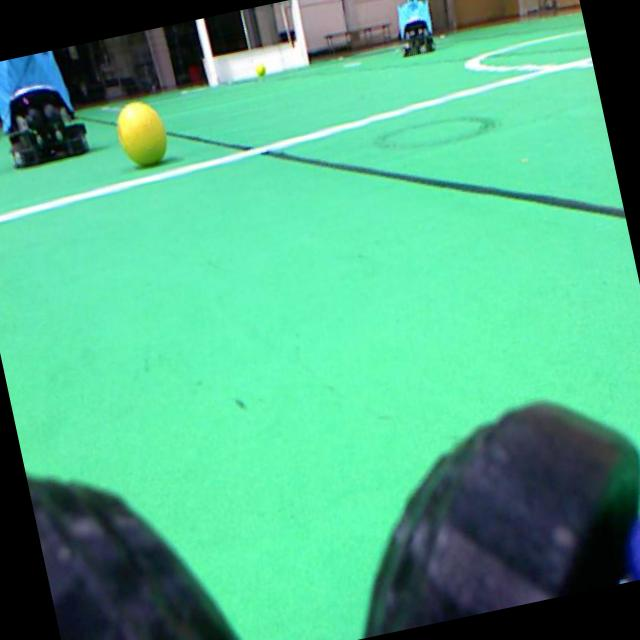ball: (116, 101, 166, 165), (254, 63, 265, 77)
goal: (195, 18, 217, 86), (290, 0, 308, 64)
